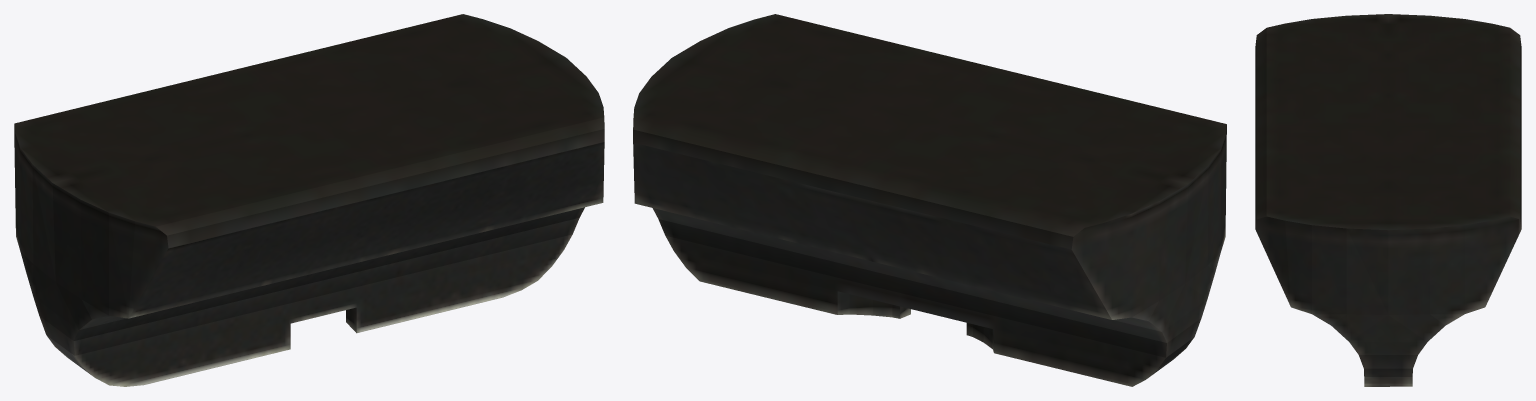
3 renders of one model, left to right at view 1: azimuth 30°, elevation 25°; view 2: azimuth 150°, elevation 25°; view 3: azimuth 270°, elevation 25°, orthographic. The views are drawn at different scales.
Parts seen in each view (by area): view 1: TW_5e81ee4dcb2b95385c177582_PZ_Import; view 2: TW_5e81ee4dcb2b95385c177582_PZ_Import; view 3: TW_5e81ee4dcb2b95385c177582_PZ_Import.
Boxes of the visible parts, <box> form: TW_5e81ee4dcb2b95385c177582_PZ_Import: <box>14,14,604,386</box>; TW_5e81ee4dcb2b95385c177582_PZ_Import: <box>633,14,1226,386</box>; TW_5e81ee4dcb2b95385c177582_PZ_Import: <box>1255,14,1521,386</box>.
Bounding box in the file's own units: 0.00934 × 0.00486 × 0.00366.
Materials: 1 (1 with a texture image).
